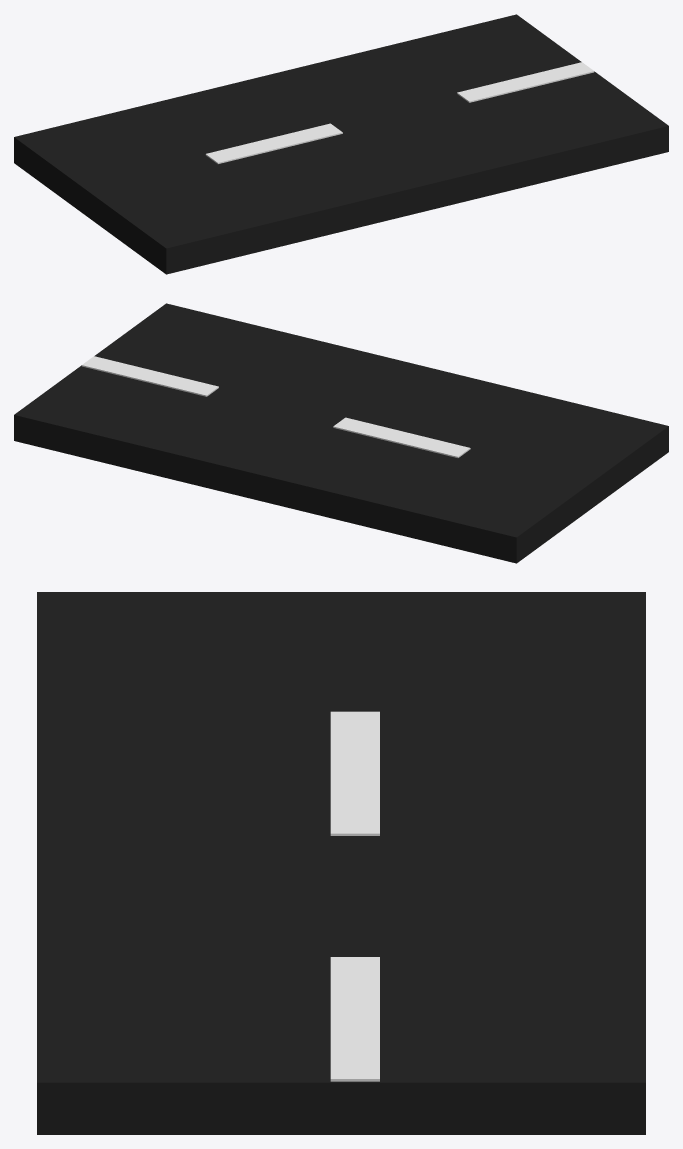
Rendered from roadModule.fbx.
3 renders of one model, top to bottom at view 1: azimuth 30°, elevation 25°; view 2: azimuth 150°, elevation 25°; view 3: azimuth 270°, elevation 25°, orthographic. The views are drawn at different scales.
Parts seen in each view (by area): view 1: Cube; view 2: Cube; view 3: Cube.
Part boxes in pixels (x1=…): Cube: x1=14, y1=14, x2=668, y2=274; Cube: x1=14, y1=303, x2=668, y2=563; Cube: x1=37, y1=592, x2=645, y2=1134.
Bounding box in the file's own units: 400 × 20.81 × 210.
